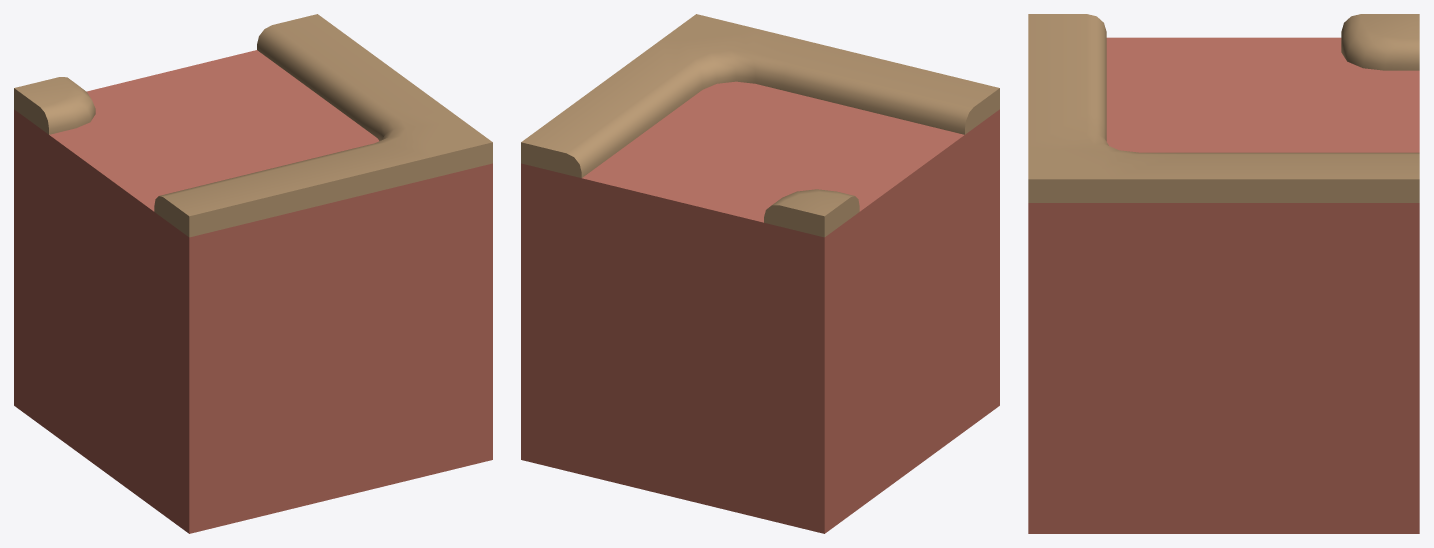
File: tile-road-corner3.glb
3 views of the same model, side by side, from view 1: azimuth 30°, elevation 25°; view 2: azimuth 150°, elevation 25°; view 3: azimuth 270°, elevation 25° (orthographic). The views are drawn at different scales.
Visible parts, largest first — view 1: Tile_Road_Solo_Corner; view 2: Tile_Road_Solo_Corner; view 3: Tile_Road_Solo_Corner.
Part boxes in pixels (x1=…): Tile_Road_Solo_Corner: x1=14, y1=14, x2=492, y2=533; Tile_Road_Solo_Corner: x1=521, y1=14, x2=999, y2=533; Tile_Road_Solo_Corner: x1=1028, y1=14, x2=1419, y2=533.
Bounding box in the file's own units: 2 × 2 × 2.
Materials: 1 (1 with a texture image).
